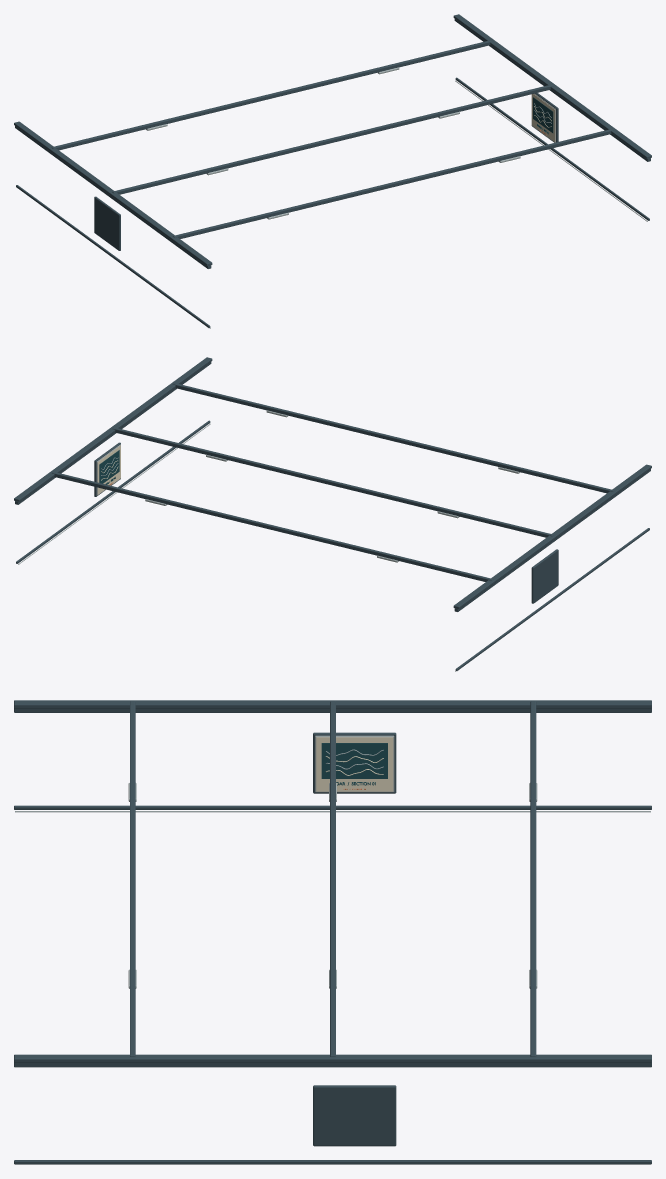
The model's file is projects-detail.glb.
3 views of the same model, one above another, from view 1: azimuth 30°, elevation 25°; view 2: azimuth 150°, elevation 25°; view 3: azimuth 270°, elevation 25° (orthographic). The views are drawn at different scales.
Parts seen in each view (by area): view 1: projects finish work; view 2: projects finish work; view 3: projects finish work.
Part boxes in pixels (<box>): projects finish work: <box>14,14,651,328</box>; projects finish work: <box>14,357,651,671</box>; projects finish work: <box>14,700,651,1164</box>.
Size of the model in its own units: 24.98 by 3.57 by 18.76.
